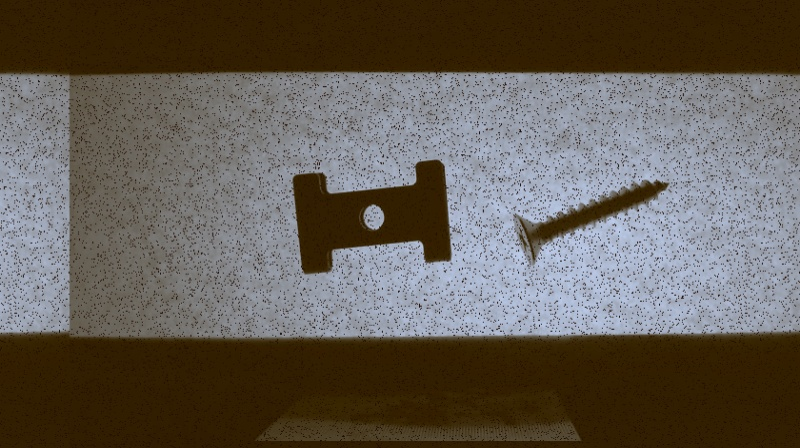O002: (285, 156, 457, 277)
S001: (507, 176, 677, 268)
